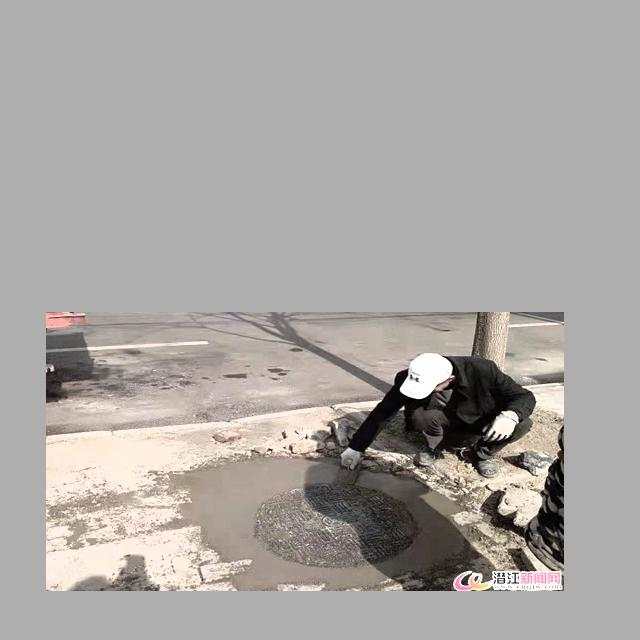good: (190, 453, 461, 585)
